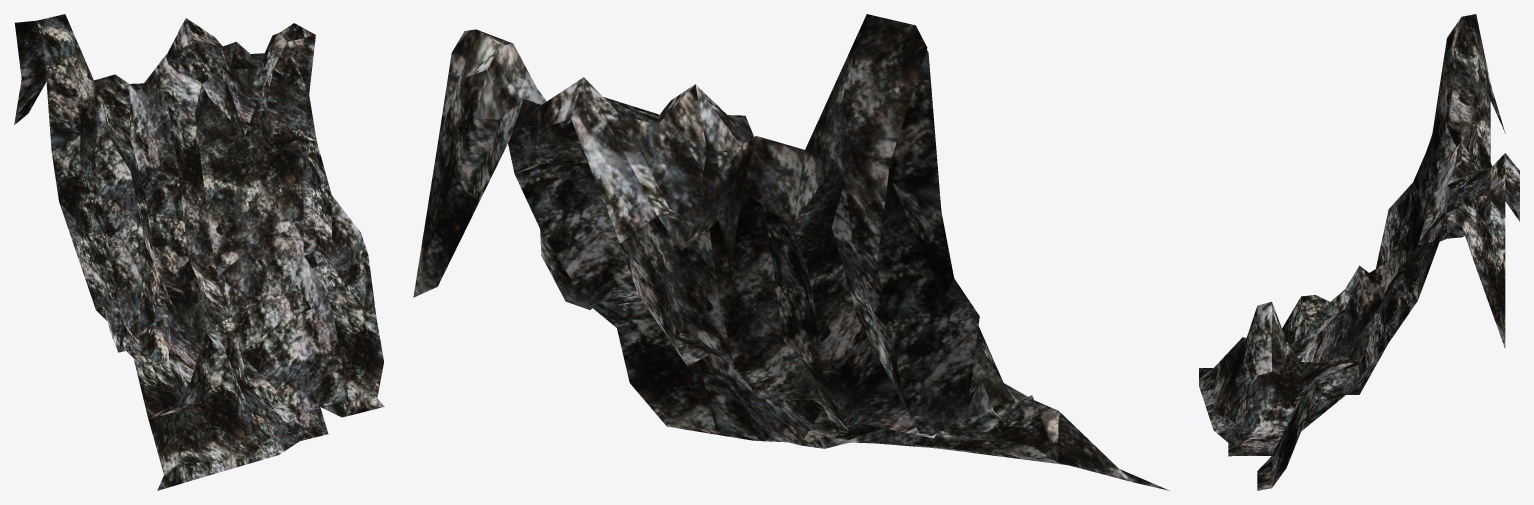
Rendered from OVERHILL_A_01_OBJECT26.fbx.
The picture shows the model from 3 angles, left to right: view 1: azimuth 30°, elevation 25°; view 2: azimuth 150°, elevation 25°; view 3: azimuth 270°, elevation 25°; orthographic projection. The views are drawn at different scales.
Visible parts, largest first — view 1: OVERHILL_A_01_OBJECT26; view 2: OVERHILL_A_01_OBJECT26; view 3: OVERHILL_A_01_OBJECT26.
Boxes of the visible parts, box(x1,y1,x2,y2) form: OVERHILL_A_01_OBJECT26: box(14, 14, 384, 490); OVERHILL_A_01_OBJECT26: box(413, 14, 1168, 490); OVERHILL_A_01_OBJECT26: box(1199, 14, 1519, 490).
Bounding box in the file's own units: 274752 × 338630 × 274235.
1 material, 1 textured.
